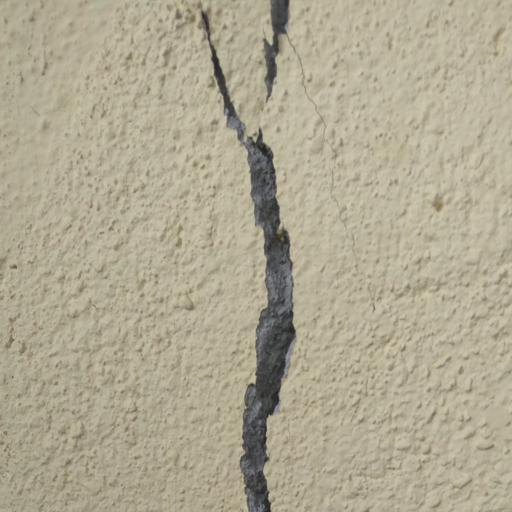major_crack: (184, 4, 311, 512)
